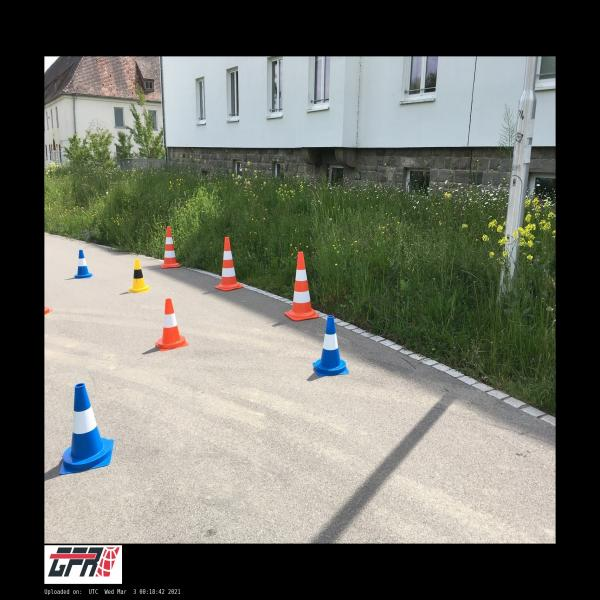blue_cone: (58, 384, 113, 474), (312, 316, 348, 376), (74, 250, 93, 278)
large_orange_cone: (285, 251, 318, 321), (215, 237, 243, 291), (161, 226, 179, 268)
orange_cone: (155, 298, 188, 351), (45, 296, 55, 314)
yellow_cone: (126, 259, 151, 292)
